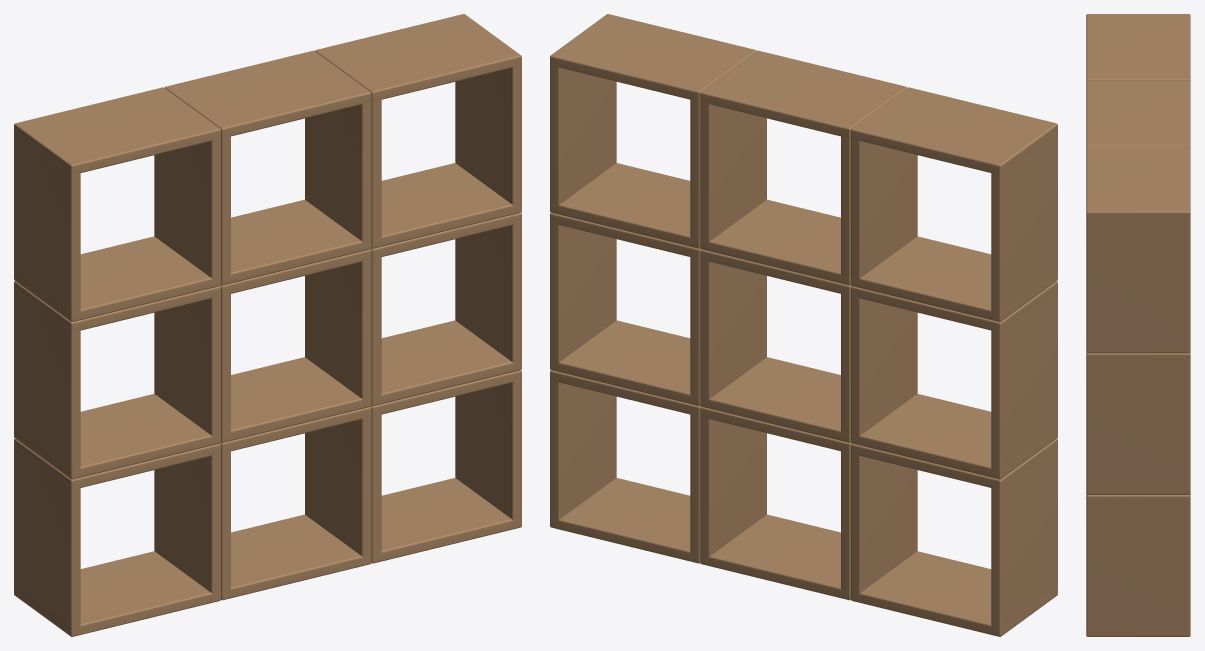
The model's file is atelier-modular-storage-unit.glb.
3 views of the same model, side by side, from view 1: azimuth 30°, elevation 25°; view 2: azimuth 150°, elevation 25°; view 3: azimuth 270°, elevation 25° (orthographic). The views are drawn at different scales.
Parts seen in each view (by area): view 1: legs.107; view 2: legs.107; view 3: legs.107.
Part boxes in pixels (box(x1,y1,x2,y2)): legs.107: box(14, 14, 521, 636); legs.107: box(550, 14, 1057, 636); legs.107: box(1086, 14, 1190, 636).
Size of the model in its own units: 1.8 by 1.8 by 0.4.
